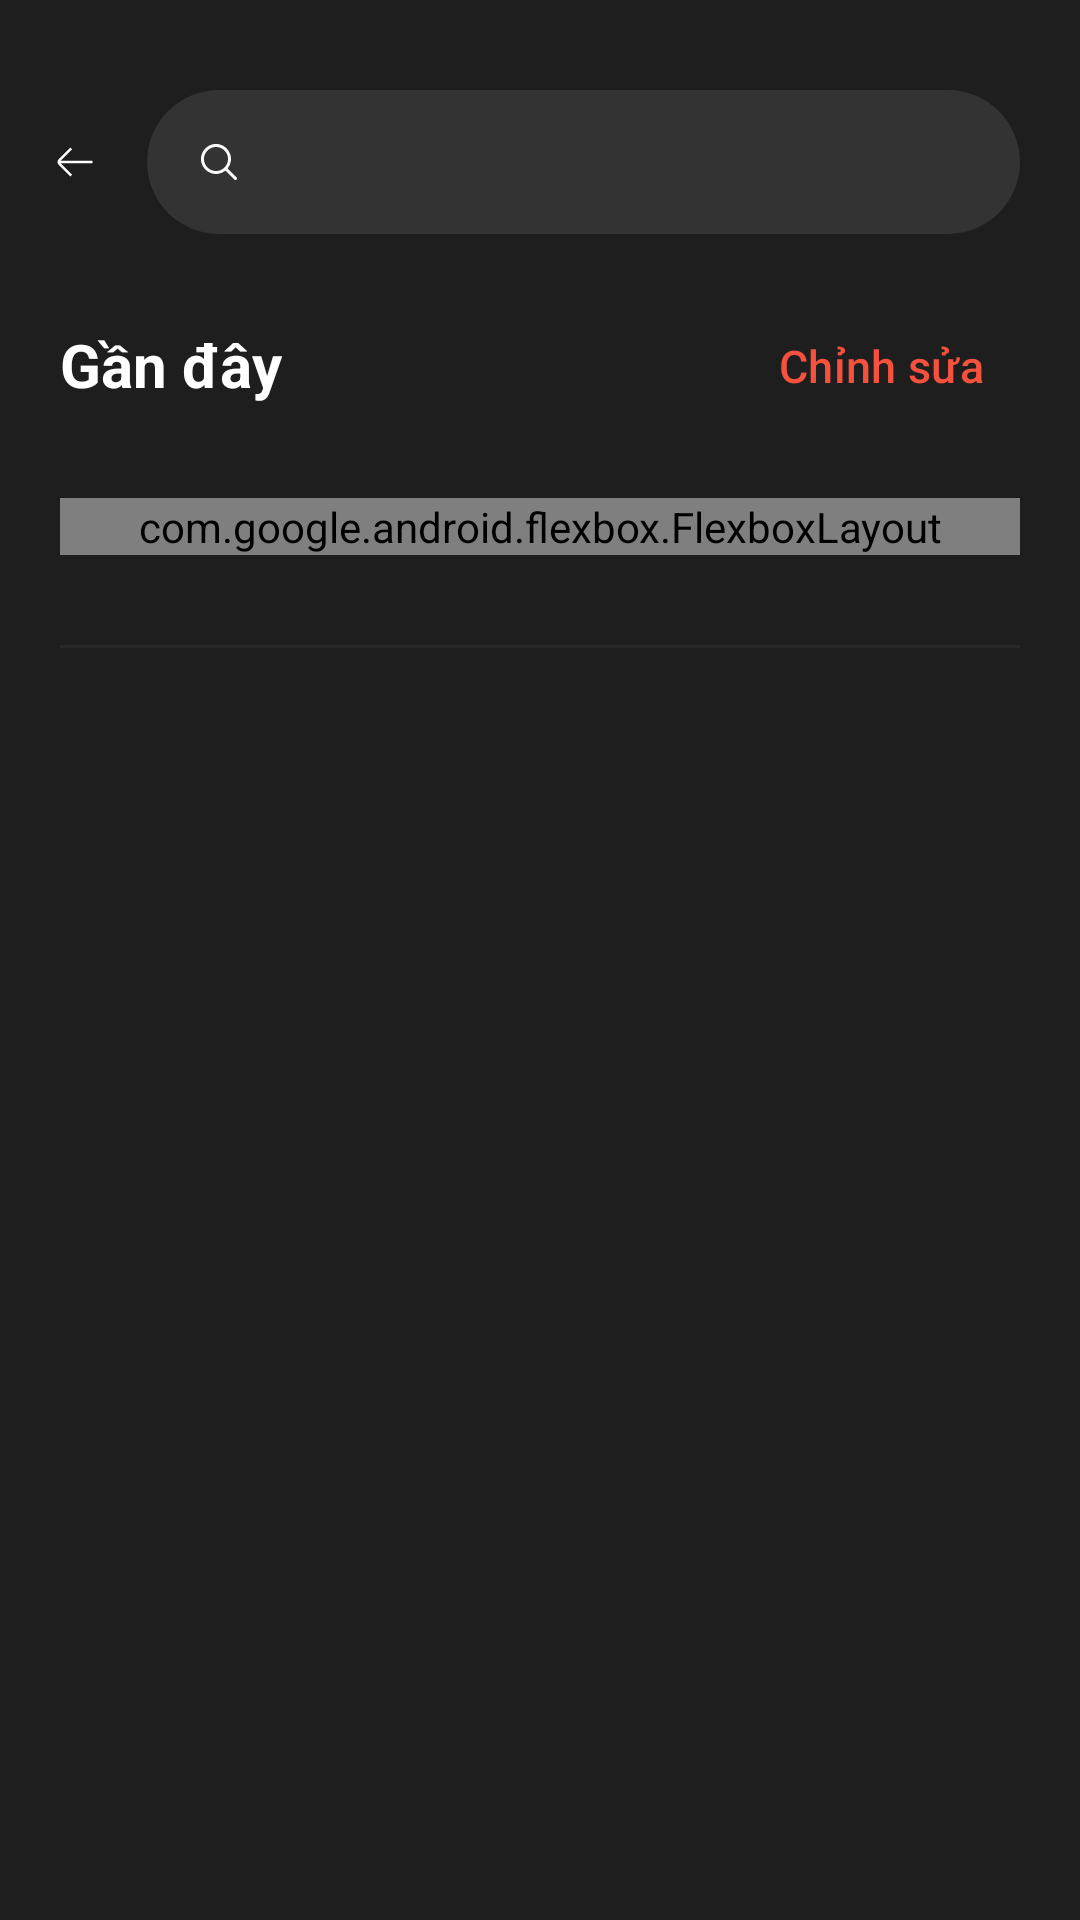

Icon click points for this 1080*1920 phone screenshot, format (x=x, y=y):
back: (x=75, y=162)
